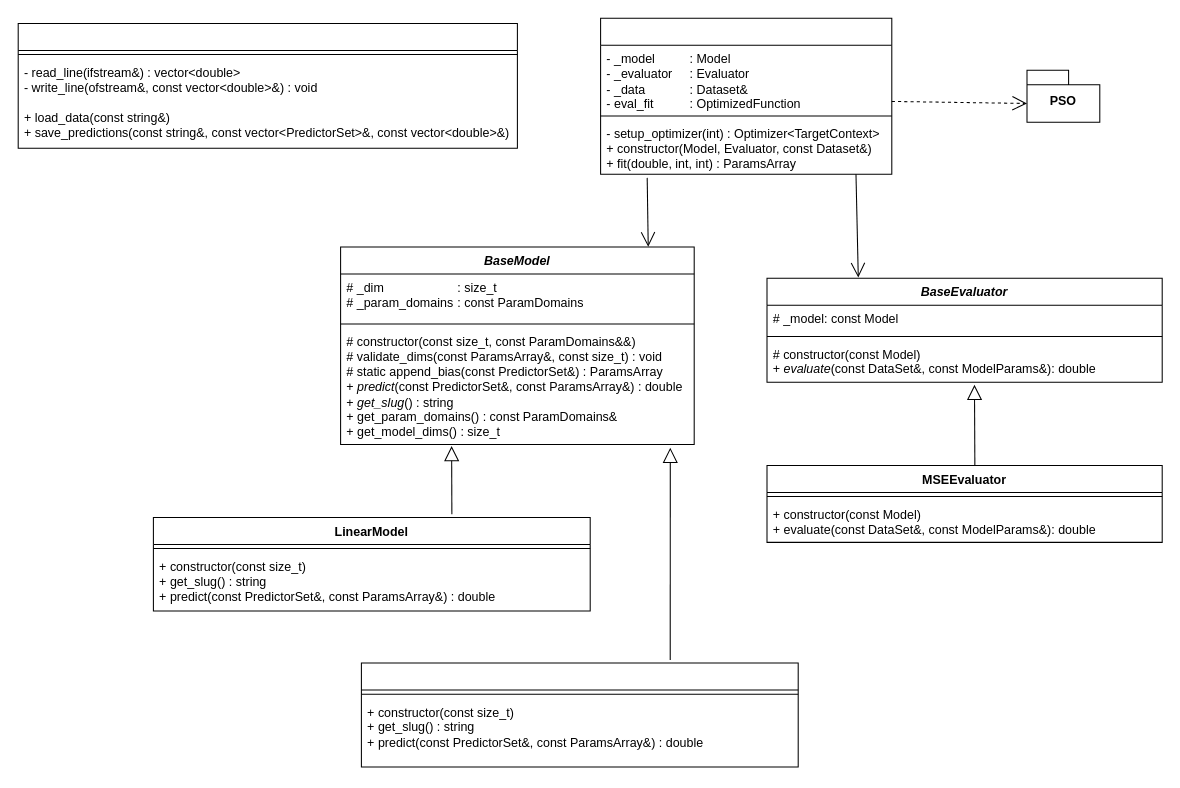
This 1180x788 diagram has some shape labels left out. Each missing label, with the box of its shape:
CSVHandler: (17, 22, 517, 148)
FitRunner: (600, 17, 892, 174)
SineModel: (360, 662, 798, 767)
